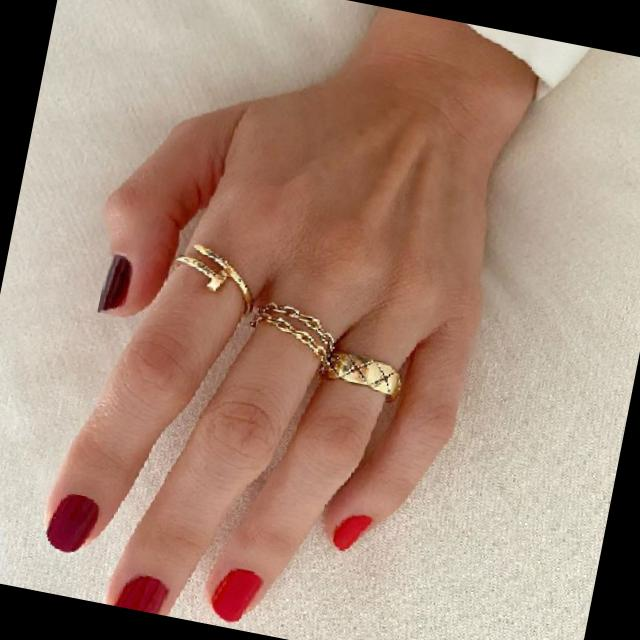Nail: (45, 494, 99, 552), (210, 569, 262, 621), (113, 575, 167, 614), (98, 254, 131, 311), (332, 514, 371, 550)
